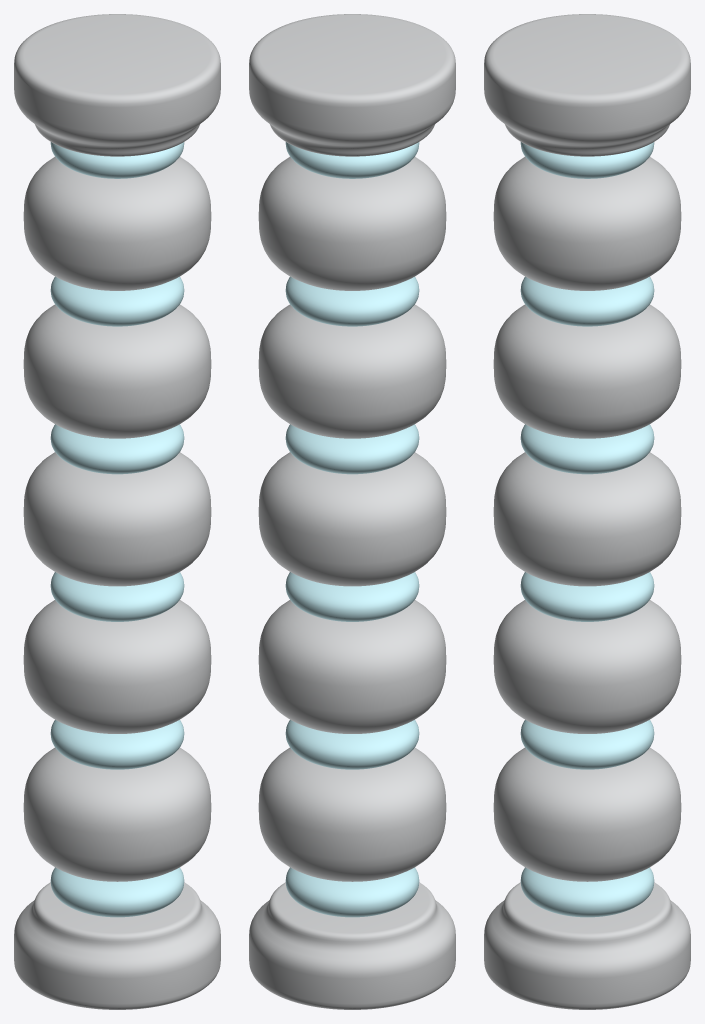
Rendered from Pillar_D03_PearlBeadStack.fbx.
3 views of the same model, side by side, from view 1: azimuth 30°, elevation 25°; view 2: azimuth 150°, elevation 25°; view 3: azimuth 270°, elevation 25° (orthographic).
Parts seen in each view (by area): view 1: Pillar_D03_PearlBeadStack; view 2: Pillar_D03_PearlBeadStack; view 3: Pillar_D03_PearlBeadStack.
Part boxes in pixels (bbox=[...]): Pillar_D03_PearlBeadStack: bbox=[14, 14, 220, 1009]; Pillar_D03_PearlBeadStack: bbox=[249, 14, 455, 1009]; Pillar_D03_PearlBeadStack: bbox=[484, 14, 690, 1009].
Size of the model in its own units: 0.82 by 4 by 0.82.
